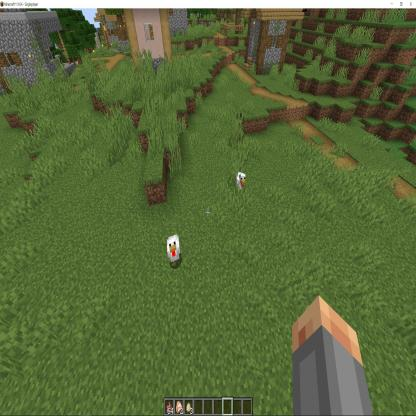minecraft-pigs: (165, 232, 183, 270), (234, 170, 247, 198)
